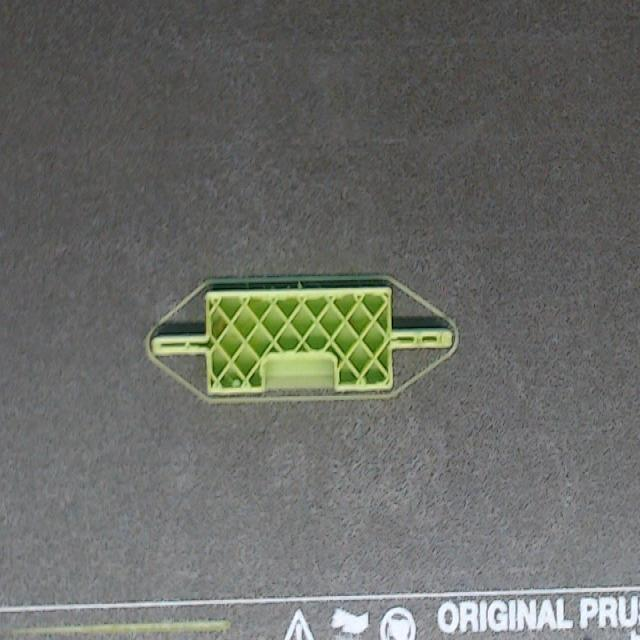mistake: (295, 283, 303, 288)
